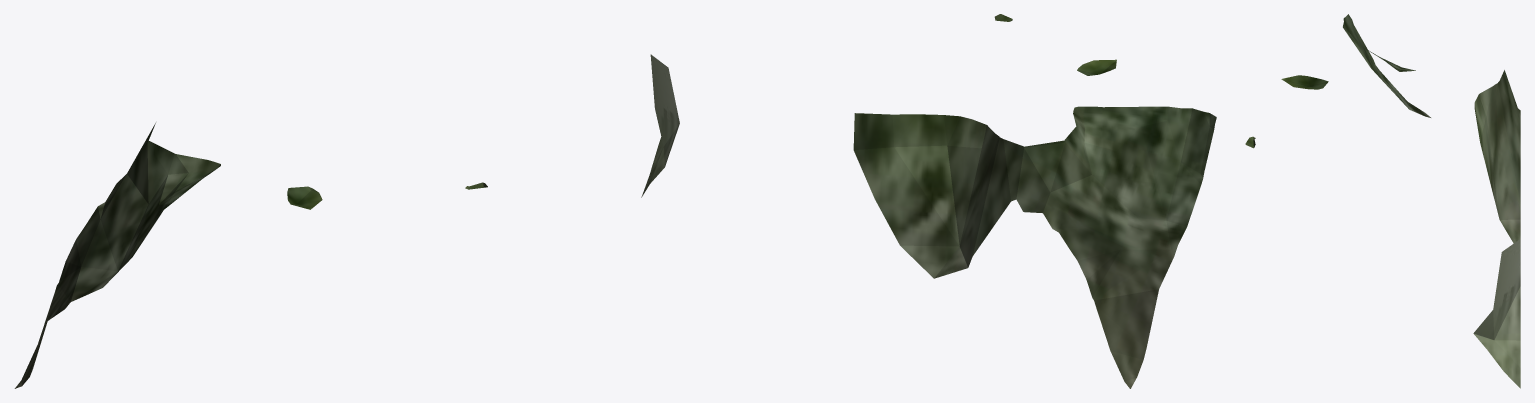
The picture shows the model from 3 angles, left to right: view 1: azimuth 30°, elevation 25°; view 2: azimuth 150°, elevation 25°; view 3: azimuth 270°, elevation 25°; orthographic projection. The views are drawn at different scales.
Bounding box in the file's own units: 2.95 × 1.2 × 1.44.
Materials: 1 (1 with a texture image).
